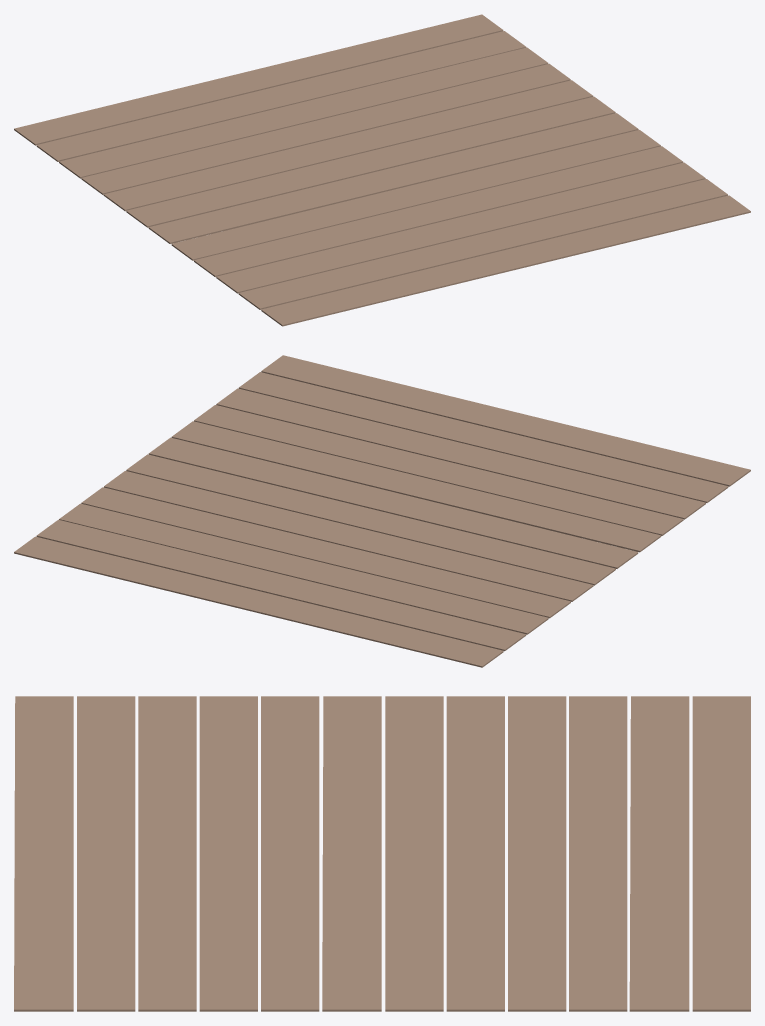
File: Boards_2.fbx
3 renders of one model, top to bottom at view 1: azimuth 30°, elevation 25°; view 2: azimuth 150°, elevation 25°; view 3: azimuth 270°, elevation 25°, orthographic. The views are drawn at different scales.
Parts seen in each view (by area): view 1: Boards_2; view 2: Boards_2; view 3: Boards_2.
Boxes of the visible parts, box(x1,y1,x2,y2) form: Boards_2: box(14, 14, 750, 326); Boards_2: box(14, 355, 750, 667); Boards_2: box(14, 696, 750, 1011).
Size of the model in its own units: 479 by 477 by 1.41.
